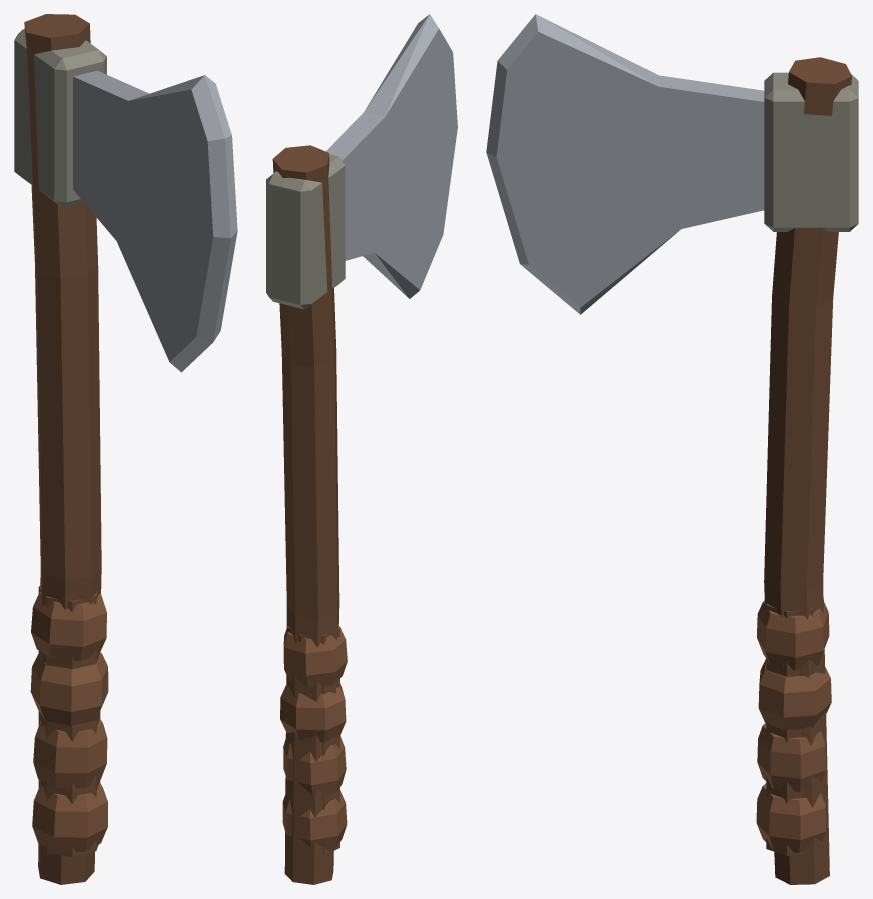
Rendered from throwing_axe.glb.
The picture shows the model from 3 angles, left to right: view 1: azimuth 30°, elevation 25°; view 2: azimuth 150°, elevation 25°; view 3: azimuth 270°, elevation 25°; orthographic projection. The views are drawn at different scales.
Visible parts, largest first — view 1: throwing_axe; view 2: throwing_axe; view 3: throwing_axe.
Boxes of the visible parts, x1=… form: throwing_axe: x1=14, y1=14, x2=237, y2=884; throwing_axe: x1=266, y1=14, x2=457, y2=884; throwing_axe: x1=486, y1=14, x2=858, y2=884.
Size of the model in its own units: 0.0334 by 0.4233 by 0.166.
